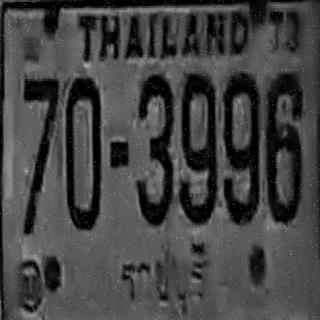N00: (64, 76, 101, 230)
N03: (135, 73, 173, 225)
N06: (265, 71, 303, 223)
N07: (22, 76, 59, 232), (22, 77, 59, 178)
N09: (179, 71, 217, 225), (223, 71, 260, 223)
P52: (114, 239, 216, 316)
